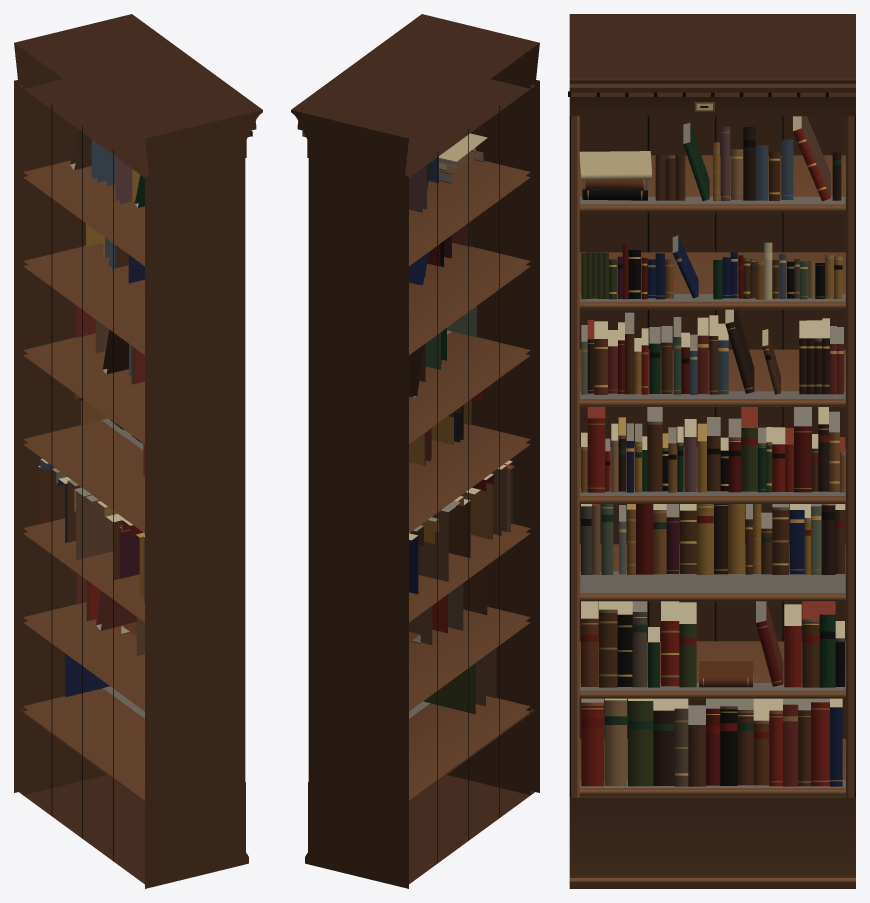
Rendered from bookcase_aisle_b@2.glb.
3 views of the same model, side by side, from view 1: azimuth 30°, elevation 25°; view 2: azimuth 150°, elevation 25°; view 3: azimuth 270°, elevation 25° (orthographic). The views are drawn at different scales.
Parts seen in each view (by area): view 1: regal; view 2: regal; view 3: regal.
Part boxes in pixels (left/top/right/bottom): regal: left=14, top=14, right=262, bottom=888; regal: left=291, top=14, right=539, bottom=888; regal: left=568, top=14, right=855, bottom=888.
Size of the model in its own units: 0.52 by 3.16 by 1.01.
